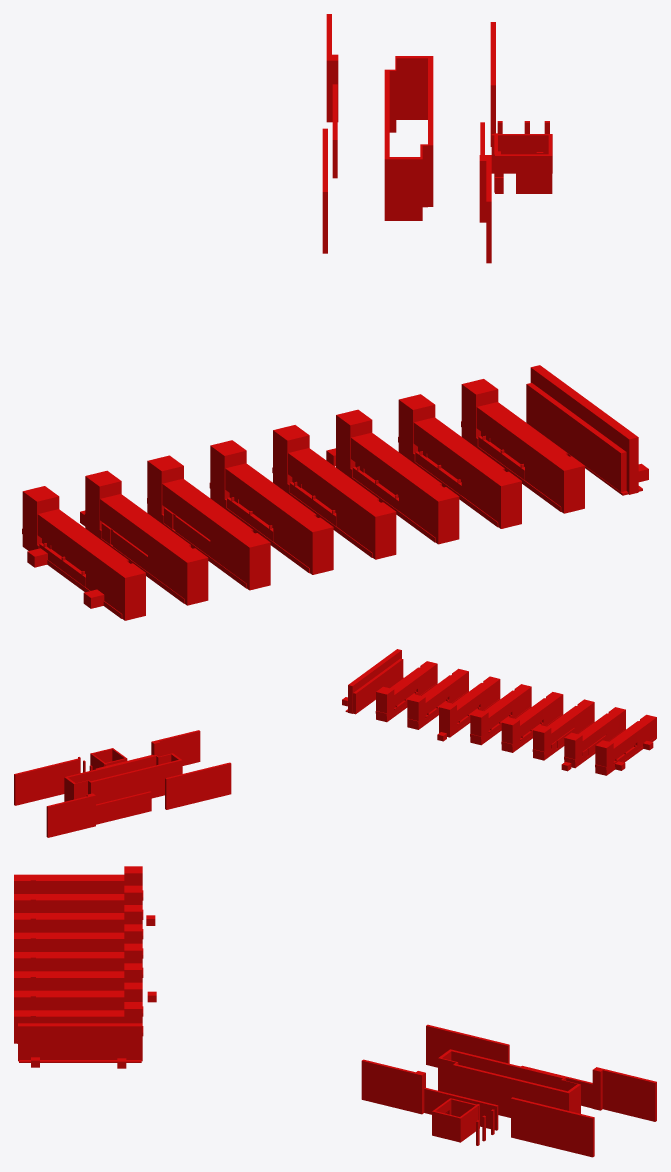
Rendered from Blockables.fbx.
3 views of the same model, one above another, from view 1: azimuth 30°, elevation 25°; view 2: azimuth 150°, elevation 25°; view 3: azimuth 270°, elevation 25° (orthographic). The views are drawn at different scales.
Visible parts, largest first — view 1: pCube1583 (×6), pCube1582 (×8), pCube1606 (×2), pCube1581, pCube1580, pCube1635, pCube1634, pCube1621, pCube1625, pCube1638, pCube1639, pCube1633; view 2: pCube1583 (×6), pCube1582 (×8), pCube1636, pCube1640, pCube1606 (×2), pCube1637, pCube1639, pCube1638, pCube1642, pCube1581, pCube1633, pCube1580 (+1 smaller); view 3: pCube1583 (×6), pCube1580, pCube1606 (×2), pCube1637, pCube1633, pCube1639, pCube1638, pCube1640, pCube1636, pCube1641, pCube1620, pCube1635 (+4 smaller).
Part boxes in pixels (x1=…): pCube1583 (×6): x1=37, y1=402, x2=584, y2=620; pCube1582 (×8): x1=22, y1=379, x2=561, y2=618; pCube1606 (×2): x1=100, y1=478, x2=270, y2=605; pCube1581: x1=526, y1=383, x2=626, y2=491; pCube1580: x1=530, y1=365, x2=638, y2=494; pCube1635: x1=385, y1=144, x2=427, y2=220; pCube1634: x1=384, y1=56, x2=427, y2=132; pCube1621: x1=516, y1=154, x2=549, y2=193; pCube1625: x1=491, y1=134, x2=552, y2=173; pCube1638: x1=479, y1=155, x2=491, y2=263; pCube1639: x1=326, y1=14, x2=338, y2=122; pCube1633: x1=428, y1=56, x2=433, y2=206; pCube1583 (×6): x1=390, y1=661, x2=656, y2=758; pCube1582 (×8): x1=375, y1=683, x2=655, y2=775; pCube1636: x1=90, y1=759, x2=182, y2=804; pCube1640: x1=165, y1=762, x2=231, y2=809; pCube1606 (×2): x1=547, y1=699, x2=625, y2=751; pCube1637: x1=14, y1=758, x2=80, y2=805; pCube1639: x1=46, y1=793, x2=95, y2=837; pCube1638: x1=151, y1=730, x2=200, y2=765; pCube1642: x1=96, y1=791, x2=151, y2=824; pCube1581: x1=353, y1=658, x2=403, y2=712; pCube1633: x1=64, y1=755, x2=156, y2=801; pCube1580: x1=348, y1=649, x2=401, y2=713; pCube1583 (×6): x1=14, y1=874, x2=124, y2=1043; pCube1580: x1=18, y1=1023, x2=142, y2=1061; pCube1606 (×2): x1=14, y1=894, x2=124, y2=932; pCube1637: x1=511, y1=1097, x2=594, y2=1157; pCube1633: x1=453, y1=1063, x2=570, y2=1117; pCube1639: x1=592, y1=1067, x2=656, y2=1121; pCube1638: x1=361, y1=1059, x2=425, y2=1114; pCube1640: x1=426, y1=1024, x2=509, y2=1067; pCube1636: x1=450, y1=1049, x2=565, y2=1089; pCube1641: x1=424, y1=1088, x2=498, y2=1130; pCube1620: x1=432, y1=1111, x2=459, y2=1141; pCube1635: x1=438, y1=1049, x2=458, y2=1094.
Size of the model in its own units: 8041 by 563 by 8406.
